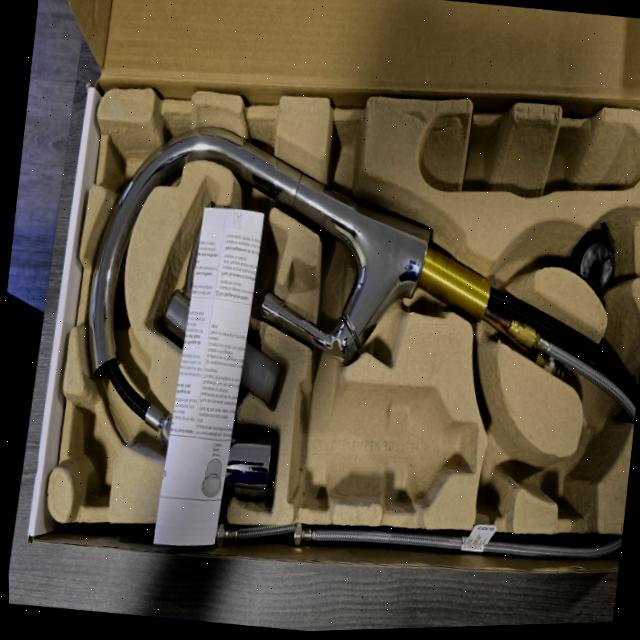1o: (87, 124, 637, 506)
2o: (160, 200, 277, 405)
3m: (287, 380, 477, 509)
4m: (418, 113, 640, 201)
5: (570, 220, 618, 296)
6m: (540, 420, 613, 524)
7m: (475, 386, 535, 520)
8: (151, 205, 263, 546)
